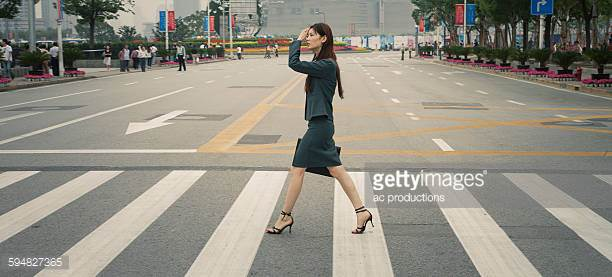pedestrian: (265, 20, 375, 237)
